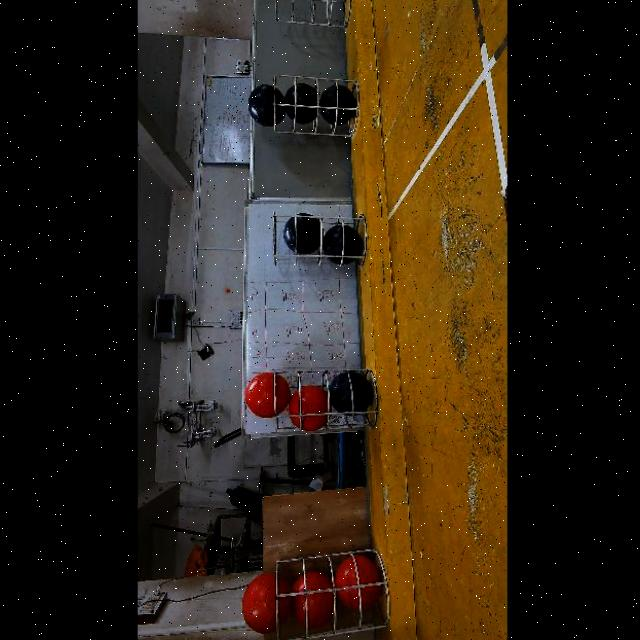P: (327, 372, 371, 416), (246, 84, 285, 128), (321, 224, 361, 265), (318, 84, 355, 125), (282, 214, 319, 255), (283, 84, 316, 125)
R: (240, 574, 290, 634), (332, 555, 380, 611), (290, 571, 332, 629), (244, 372, 289, 418), (285, 385, 326, 431)
S: (267, 560, 393, 632), (267, 370, 377, 428), (268, 210, 372, 266), (268, 73, 356, 134), (264, 0, 354, 32)
